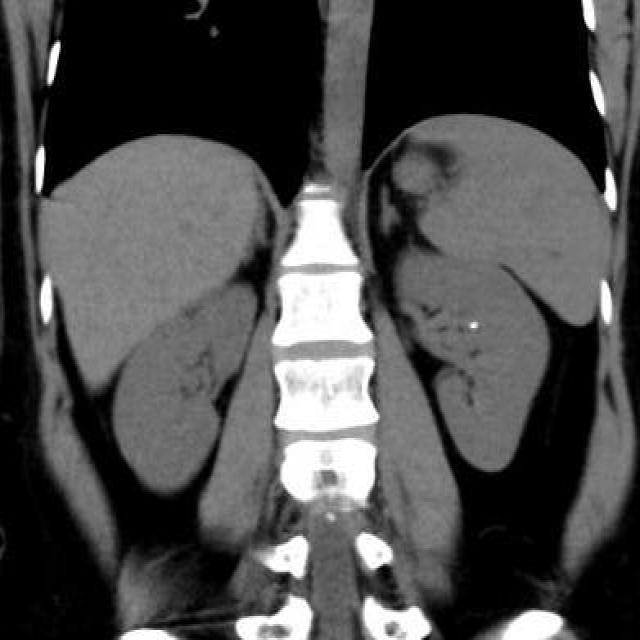Tas_Var: (466, 318, 478, 332)
